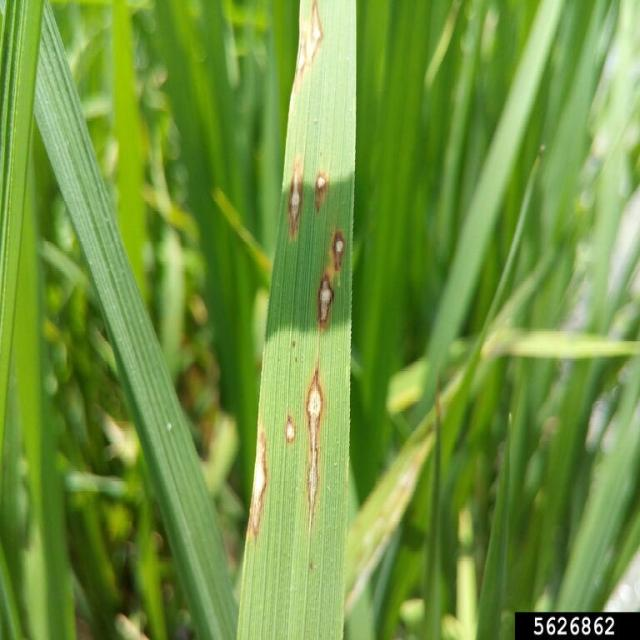Leaf blast: (302, 362, 332, 532), (251, 412, 274, 558), (301, 0, 324, 85), (290, 157, 306, 246), (313, 272, 342, 318), (324, 226, 352, 273), (313, 165, 332, 212), (282, 402, 298, 448)
